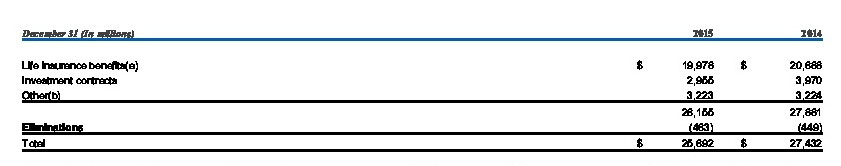table: (0, 0, 841, 166)
